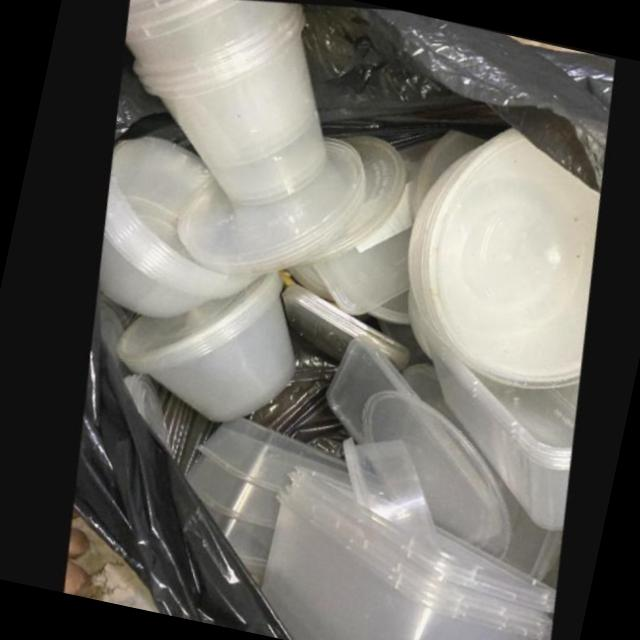hop_nhua: (258, 467, 555, 640), (403, 123, 594, 386), (118, 0, 320, 204), (424, 328, 575, 528), (95, 134, 254, 317), (113, 269, 292, 420), (172, 133, 359, 272), (340, 434, 434, 534)
